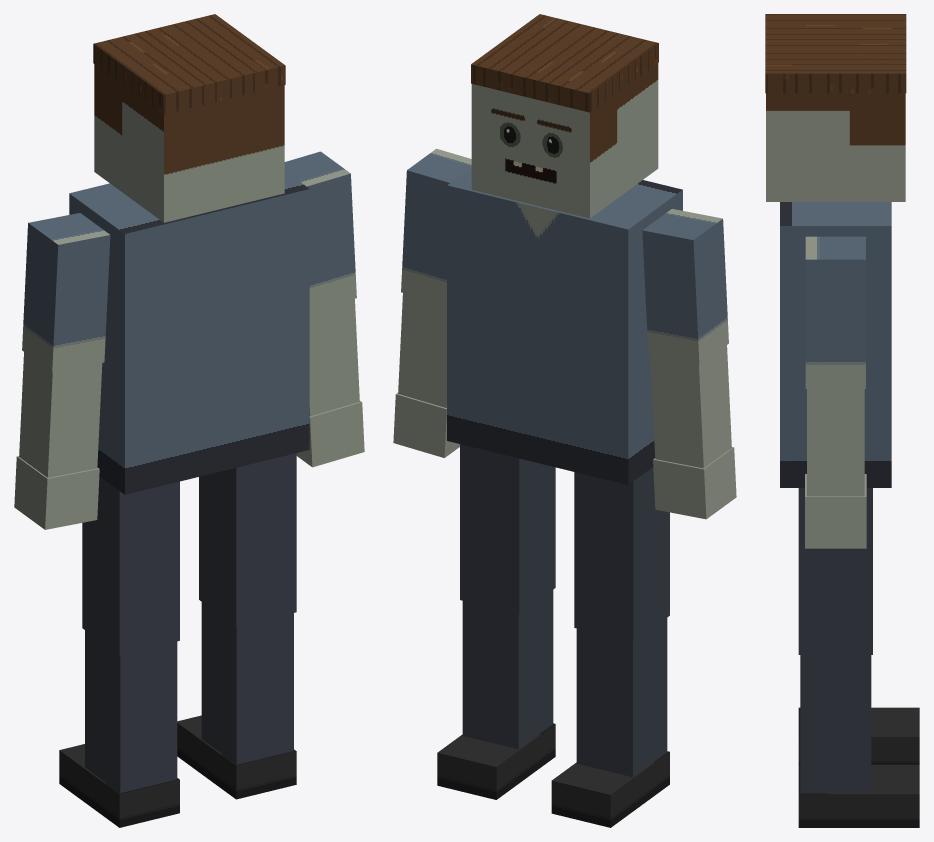
Rendered from hair_buzz.glb.
3 renders of one model, left to right at view 1: azimuth 30°, elevation 25°; view 2: azimuth 150°, elevation 25°; view 3: azimuth 270°, elevation 25°, orthographic. The views are drawn at different scales.
Visible parts, largest first — view 1: block_torso, block_head, block_thigh.L, block_thigh.R, block_shin.R, block_shin.L, block_hair-buzz, block_upper_arm.L, block_forearm.L, block_upper_arm.R, block_forearm.R, block_foot.L (+3 smaller); view 2: block_torso, block_head, block_thigh.L, block_thigh.R, block_shin.R, block_shin.L, block_hair-buzz, block_upper_arm.L, block_forearm.L, block_upper_arm.R, block_foot.L, block_foot.R (+3 smaller); view 3: block_torso, block_head, block_hair-buzz, block_shin.R, block_upper_arm.R, block_thigh.R, block_forearm.R, block_foot.R, block_hand.R, block_foot.L.
Boxes of the visible parts, <box> form: block_torso: <box>69,171,309,494</box>; block_head: <box>94,64,284,222</box>; block_thigh.L: <box>82,476,179,655</box>; block_thigh.R: <box>199,453,296,626</box>; block_shin.R: <box>201,602,293,764</box>; block_shin.L: <box>85,630,177,793</box>; block_hair-buzz: <box>93,14,285,114</box>; block_upper_arm.L: <box>22,213,110,372</box>; block_forearm.L: <box>19,352,102,477</box>; block_upper_arm.R: <box>284,151,356,311</box>; block_forearm.R: <box>309,299,359,416</box>; block_foot.L: <box>59,744,179,827</box>; block_torso: <box>447,167,682,484</box>; block_head: <box>471,63,658,218</box>; block_thigh.L: <box>574,467,669,642</box>; block_thigh.R: <box>460,444,555,614</box>; block_shin.R: <box>462,590,553,749</box>; block_shin.L: <box>576,618,667,777</box>; block_hair-buzz: <box>471,14,658,112</box>; block_upper_arm.L: <box>642,209,728,364</box>; block_forearm.L: <box>650,345,731,468</box>; block_upper_arm.R: <box>401,148,471,305</box>; block_foot.L: <box>551,751,669,827</box>; block_foot.R: <box>437,723,555,799</box>; block_torso: <box>780,202,891,487</box>; block_head: <box>766,93,905,201</box>; block_hair-buzz: <box>765,14,906,93</box>; block_shin.R: <box>800,655,871,793</box>; block_upper_arm.R: <box>805,236,865,388</box>; block_thigh.R: <box>798,488,872,654</box>; block_forearm.R: <box>807,389,864,496</box>; block_foot.R: <box>798,764,919,827</box>; block_hand.R: <box>805,474,866,548</box>; block_foot.L: <box>798,707,919,764</box>.
Size of the model in its own units: 0.7948 by 1.75 by 0.3315.
1 material, 1 textured.
